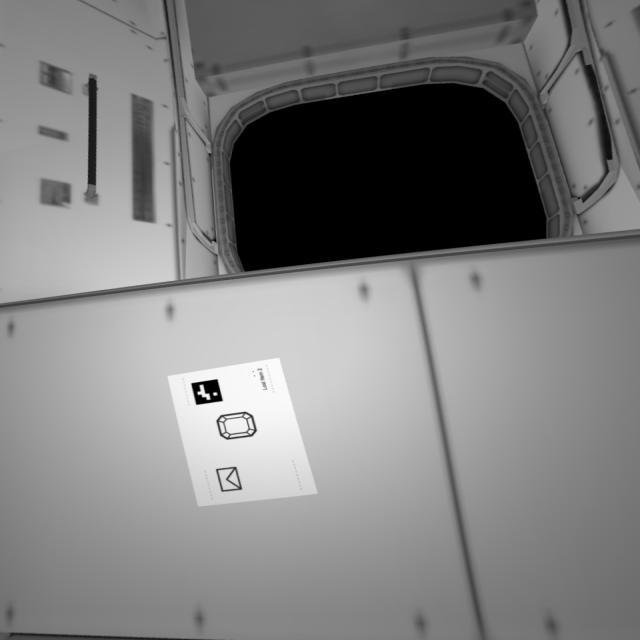emerald: (205, 408, 262, 441)
letter: (213, 459, 249, 499)
